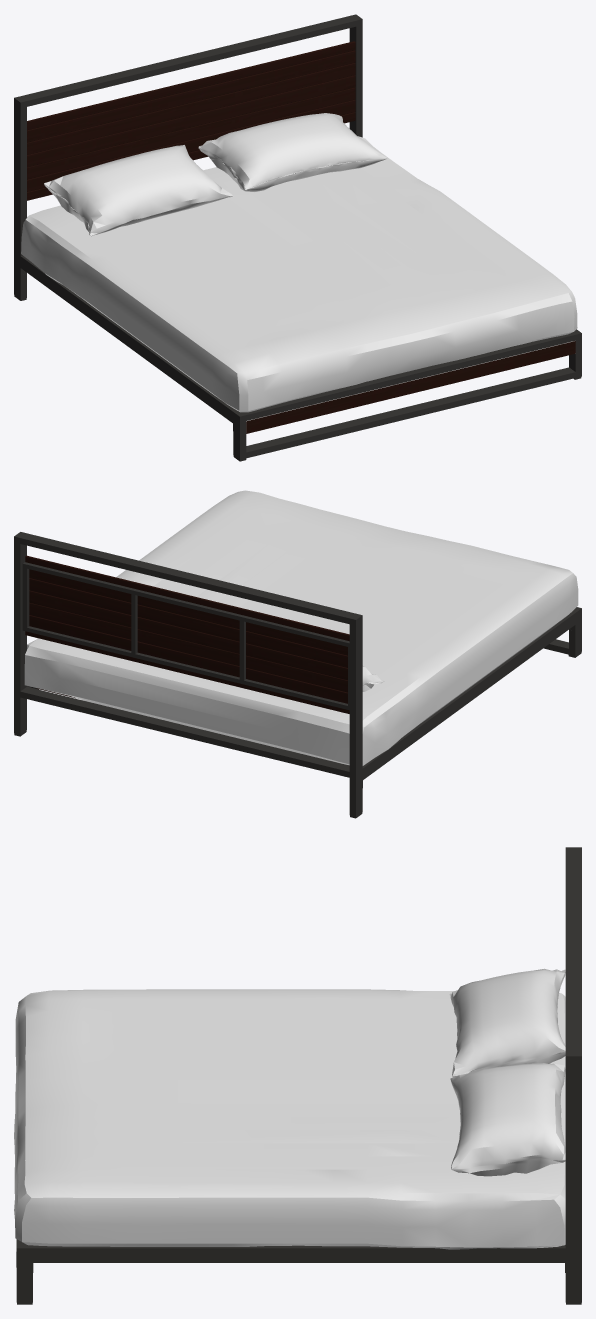
3 renders of one model, top to bottom at view 1: azimuth 30°, elevation 25°; view 2: azimuth 150°, elevation 25°; view 3: azimuth 270°, elevation 25°, orthographic. The views are drawn at different scales.
Visible parts, largest first — view 1: C-skp3161; view 2: C-skp3161; view 3: C-skp3161.
Part boxes in pixels (<box>): C-skp3161: <box>14,14,581,461</box>; C-skp3161: <box>14,490,581,818</box>; C-skp3161: <box>14,847,581,1304</box>.
Bounding box in the file's own units: 1.82 × 1 × 2.07.
3 materials, 1 textured.
